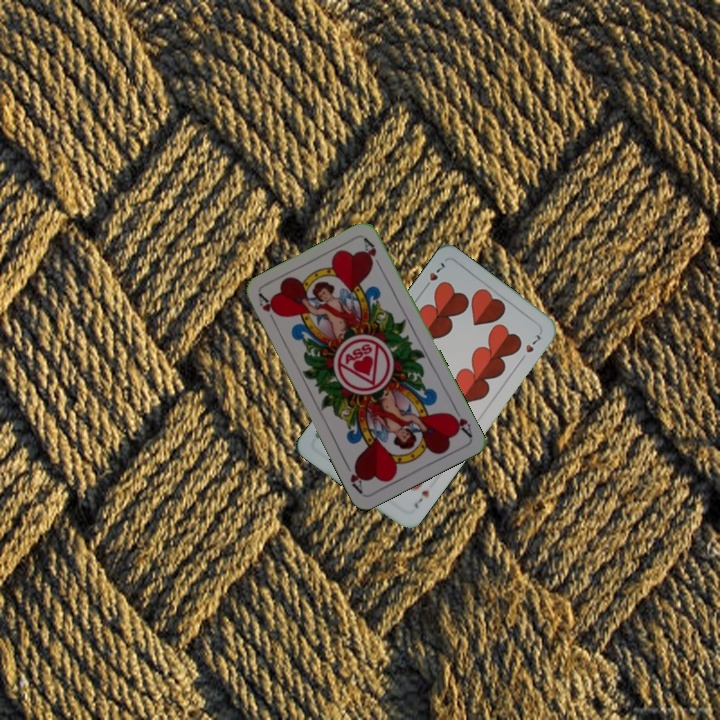H7: (419, 257, 447, 293), (409, 486, 432, 511)
HA: (445, 402, 475, 439), (254, 290, 281, 328)
